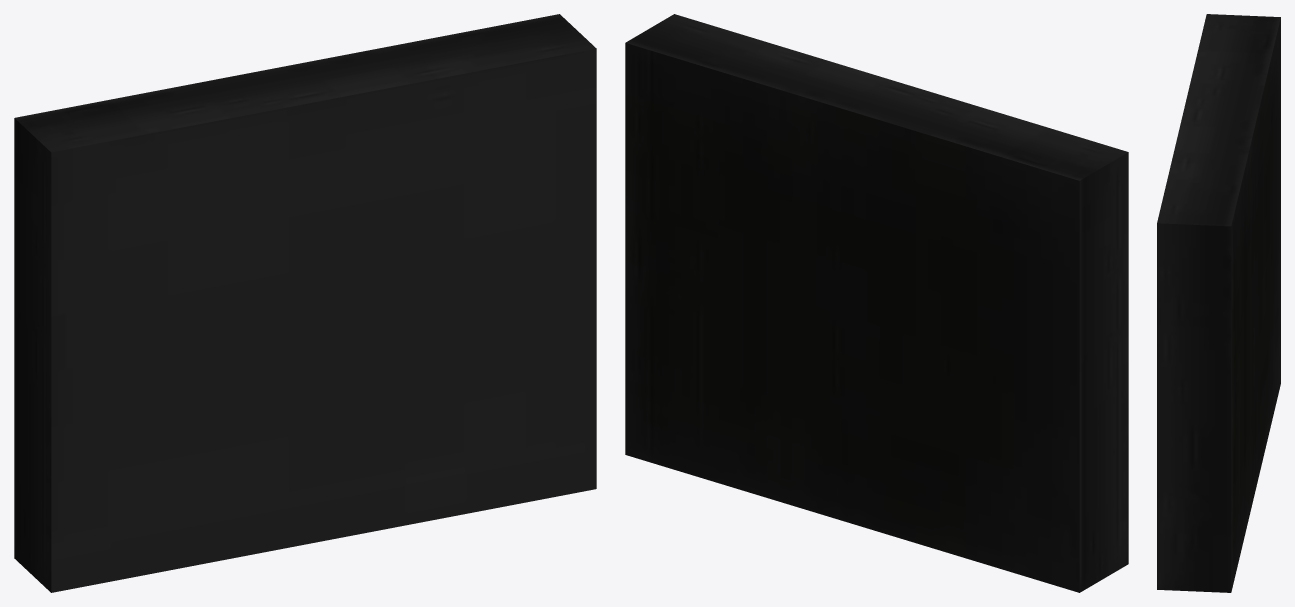
File: seat__seat_pad.glb
3 views of the same model, side by side, from view 1: azimuth 30°, elevation 25°; view 2: azimuth 150°, elevation 25°; view 3: azimuth 270°, elevation 25° (orthographic). The views are drawn at different scales.
Parts seen in each view (by area): view 1: world; view 2: world; view 3: world.
Part boxes in pixels (box(x1,y1,x2,y2)): world: box(14, 14, 596, 592); world: box(625, 14, 1128, 592); world: box(1157, 14, 1280, 592).
Bounding box in the file's own units: 0.3232 × 0.26 × 0.0797.
1 material, 1 textured.
